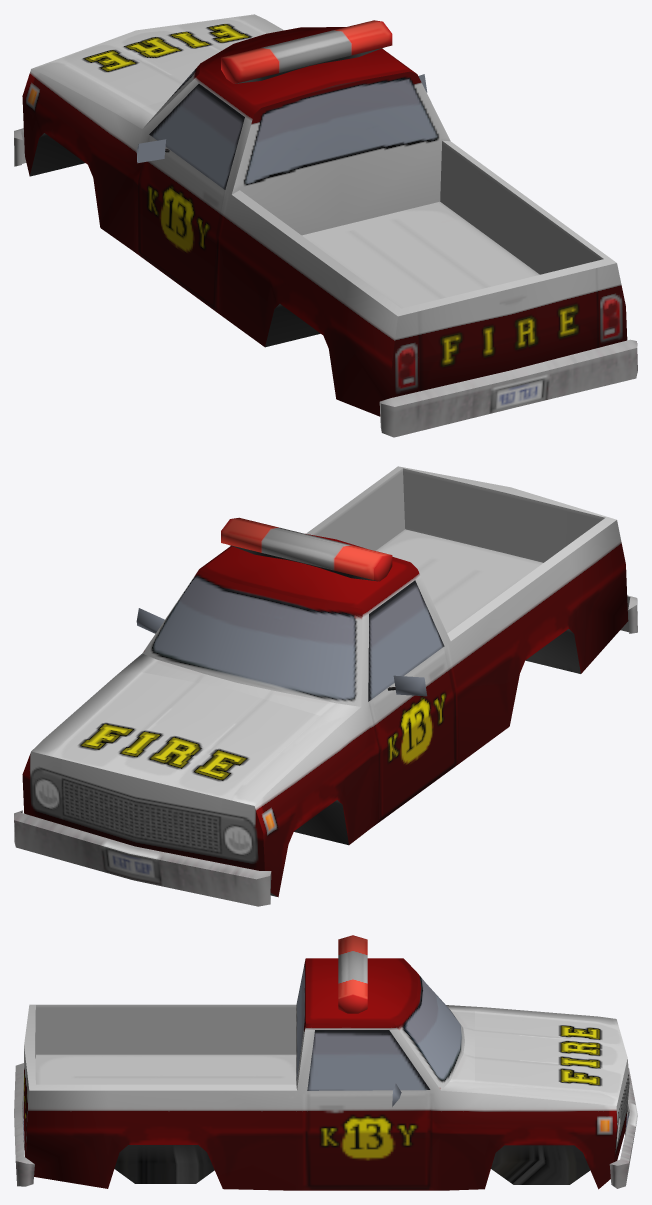
Rendered from Vehicles_PickUpTruckLights.FBX.
3 views of the same model, one above another, from view 1: azimuth 30°, elevation 25°; view 2: azimuth 150°, elevation 25°; view 3: azimuth 270°, elevation 25° (orthographic). The views are drawn at different scales.
Parts seen in each view (by area): view 1: Vehicles_PickUpTruckLights; view 2: Vehicles_PickUpTruckLights; view 3: Vehicles_PickUpTruckLights.
Boxes of the visible parts, x1,y1,x2,y2 form: Vehicles_PickUpTruckLights: (14, 14, 637, 437); Vehicles_PickUpTruckLights: (14, 466, 637, 906); Vehicles_PickUpTruckLights: (14, 935, 637, 1190).
Size of the model in its own units: 97.68 by 78.14 by 226.
1 material, 1 textured.
